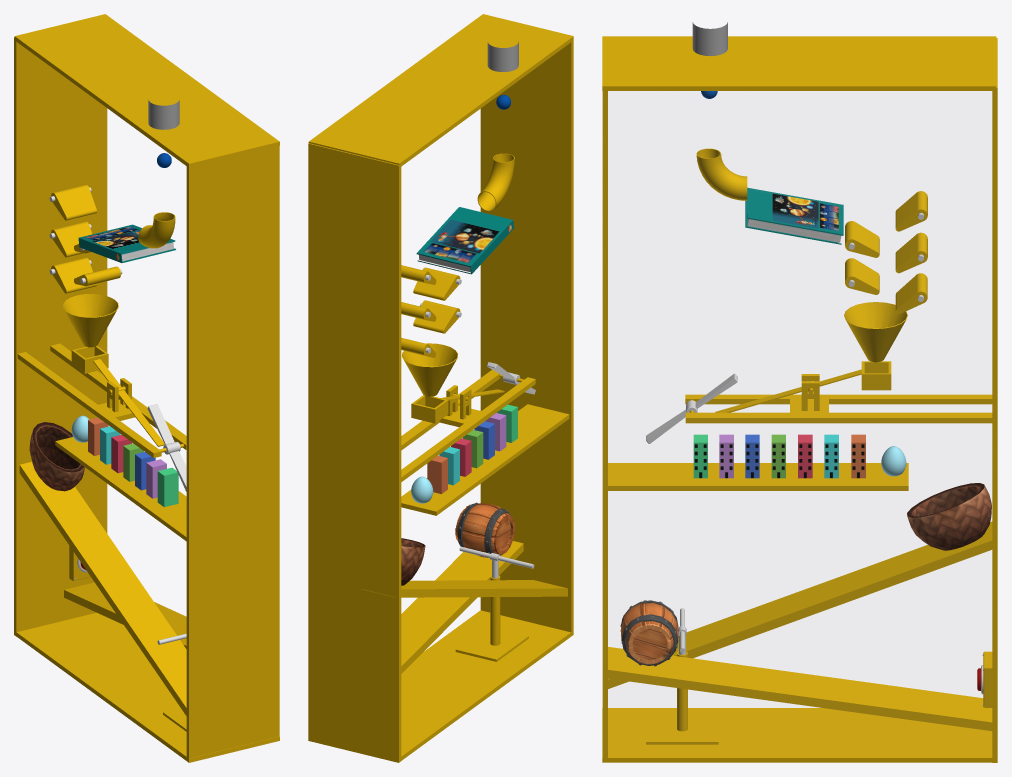
The picture shows the model from 3 angles, left to right: view 1: azimuth 30°, elevation 25°; view 2: azimuth 150°, elevation 25°; view 3: azimuth 270°, elevation 25°; orthographic projection. The views are drawn at different scales.
Parts seen in each view (by area): view 1: Masina_1_ram1, Postolje2, Nova_klackalica, Postolje1, Korpa, Levak, Knjiga_iz_vrtica, Kasinka_nova, Postolje3, Fliper4, Fliper3, Elise (+10 smaller); view 2: Masina_1_ram1, Postolje3, Knjiga_iz_vrtica, Postolje1, Nova_klackalica, Postolje2, Burence, Stalak, Levak, Tunel, Kasinka_nova, Fliper (+11 smaller); view 3: Masina_1_ram1, Postolje3, Postolje2, Nova_klackalica, Postolje1, Korpa, Knjiga_iz_vrtica, Burence, Levak, Stalak, Kasinka_nova, Tunel (+13 smaller).
Boxes of the visible parts, x1,y1,x2,y2 form: Masina_1_ram1: (14, 14, 279, 762); Postolje2: (19, 461, 186, 715); Nova_klackalica: (17, 343, 186, 457); Postolje1: (55, 437, 186, 541); Korpa: (29, 422, 84, 491); Levak: (62, 294, 118, 347); Knjiga_iz_vrtica: (78, 224, 175, 262); Kasinka_nova: (71, 346, 164, 446); Postolje3: (64, 582, 186, 648); Fliper4: (49, 184, 96, 220); Fliper3: (49, 257, 96, 293); Elise: (147, 404, 186, 491); Masina_1_ram1: (308, 14, 573, 762); Postolje3: (401, 541, 523, 673); Knjiga_iz_vrtica: (416, 207, 514, 274); Postolje1: (401, 404, 569, 515); Nova_klackalica: (401, 369, 535, 481); Postolje2: (361, 580, 567, 597); Burence: (455, 502, 514, 557); Stalak: (455, 575, 528, 661); Levak: (402, 343, 457, 396); Tunel: (477, 153, 514, 211); Kasinka_nova: (411, 389, 504, 423); Fliper: (413, 267, 461, 300); Masina_1_ram1: (602, 22, 997, 762); Postolje3: (608, 647, 992, 730); Postolje2: (608, 521, 992, 688); Nova_klackalica: (685, 374, 992, 423); Postolje1: (608, 463, 908, 490); Korpa: (907, 483, 991, 550); Knjiga_iz_vrtica: (745, 187, 843, 244); Burence: (620, 600, 678, 666); Levak: (844, 302, 907, 362); Stalak: (646, 651, 718, 744); Kasinka_nova: (715, 361, 891, 412); Tunel: (696, 148, 747, 200).
Bounding box in the file's own units: 0.081 × 0.5104 × 0.2598.
19 materials, 11 textured.
